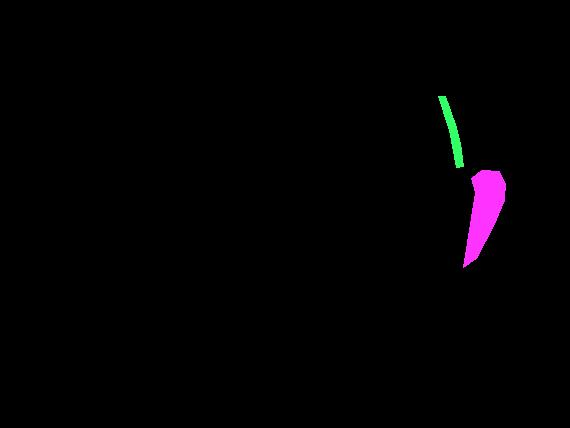Broken part: (438, 96, 463, 167)
Dent: (463, 170, 505, 267)
